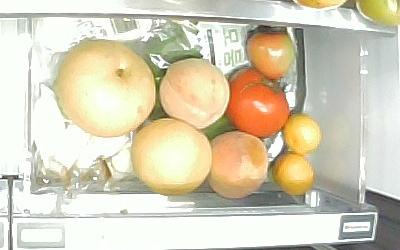peach: (159, 57, 232, 131), (206, 130, 269, 200)
pear: (53, 37, 158, 139), (130, 116, 212, 196)
tangerine: (272, 152, 316, 197), (282, 112, 322, 155)
tomato: (226, 65, 291, 140), (245, 29, 296, 81)
